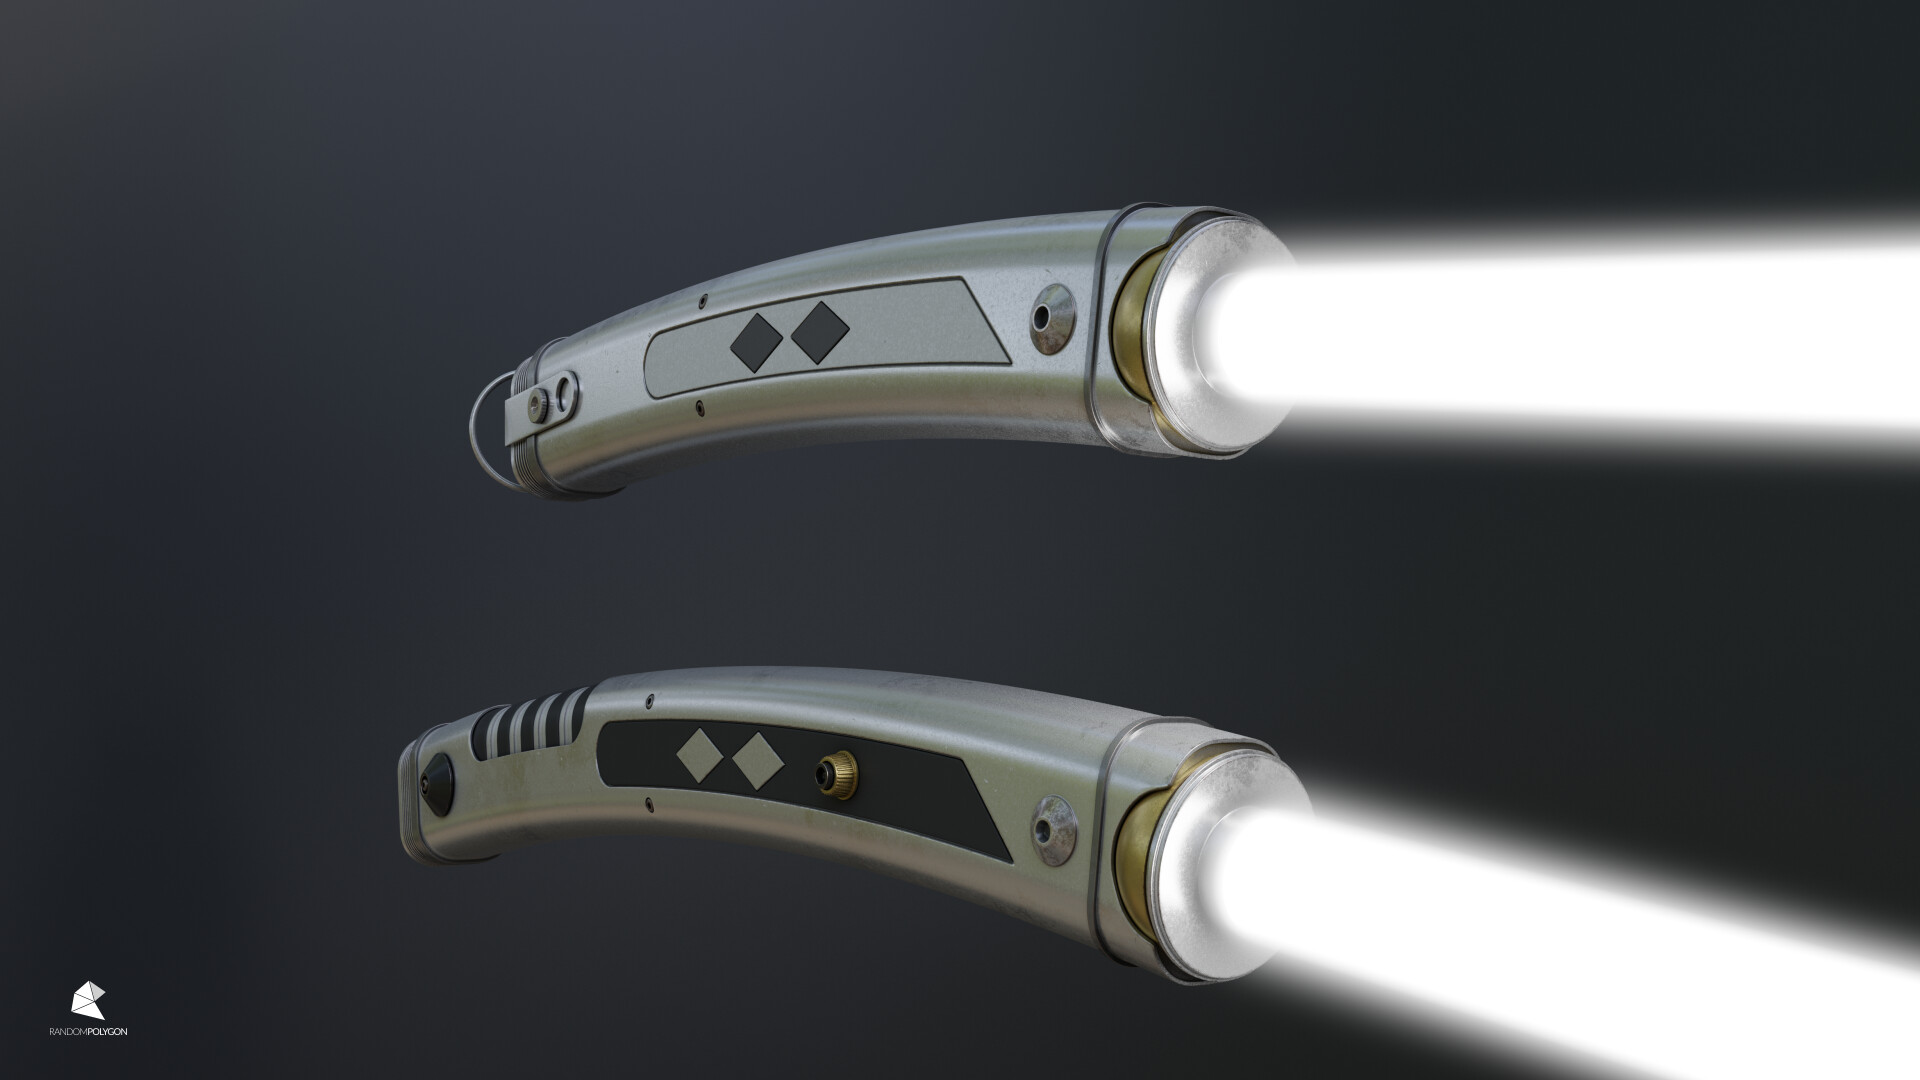lightsaber: (328, 42, 1920, 526), (298, 649, 1920, 1080)
